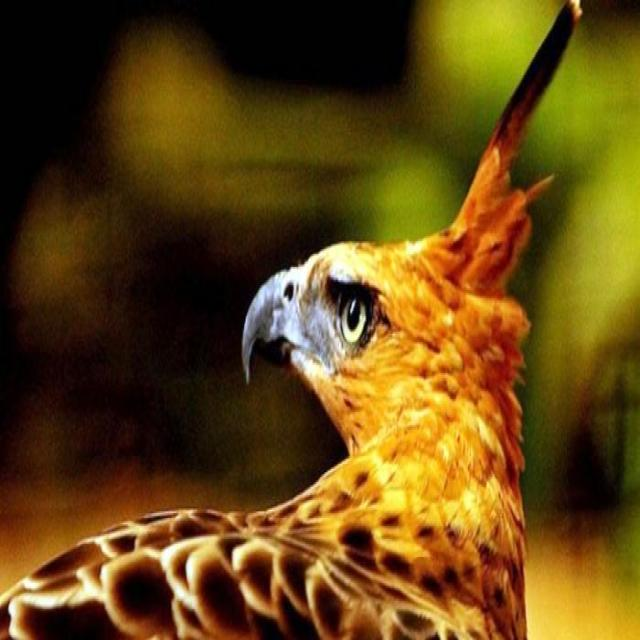Elang Jawa: (2, 0, 592, 640)
